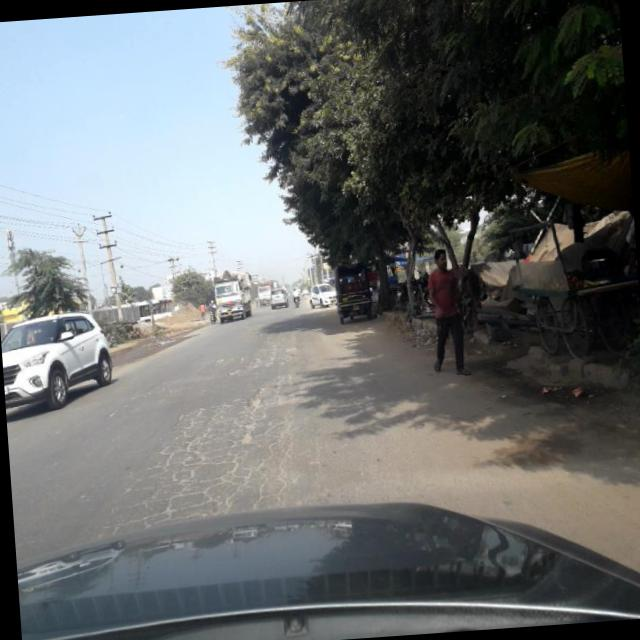crack: (92, 386, 322, 519), (219, 322, 312, 388)
